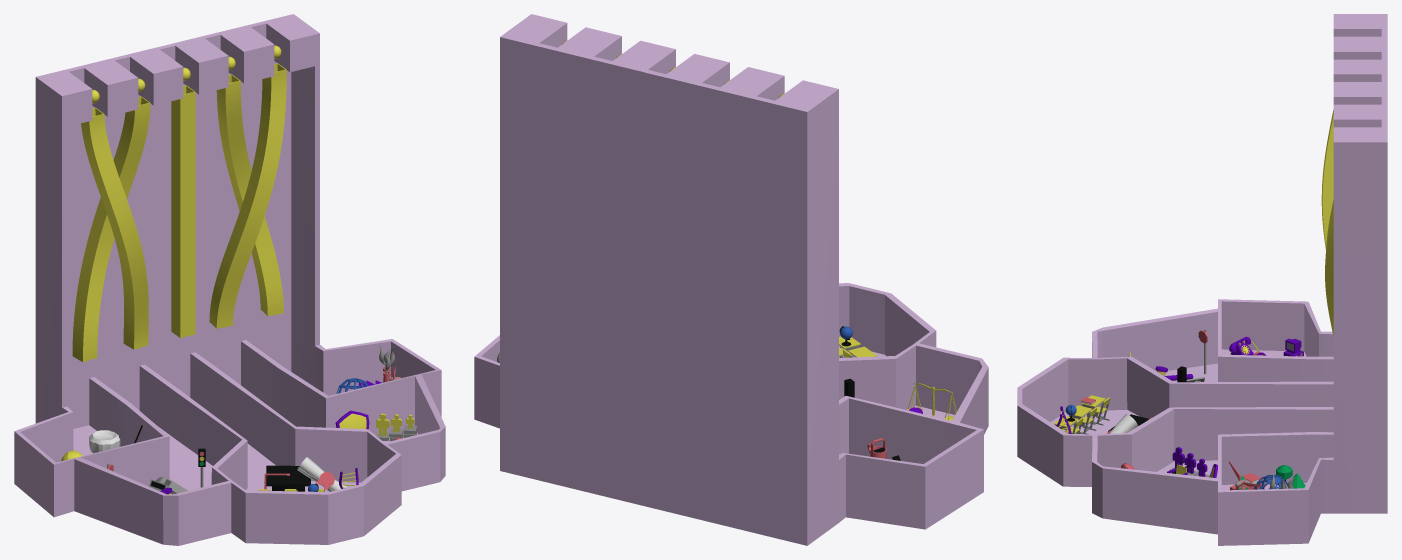
The model's file is 020-politics.glb.
3 renders of one model, left to right at view 1: azimuth 30°, elevation 25°; view 2: azimuth 150°, elevation 25°; view 3: azimuth 270°, elevation 25°, orthographic. The views are drawn at different scales.
Visible parts, largest first — view 1: GEO.Plinko.board.002; view 2: GEO.Plinko.board.002; view 3: GEO.Plinko.board.002.
Boxes of the visible parts, left/top/right/bottom form: GEO.Plinko.board.002: left=14, top=14, right=445, bottom=545; GEO.Plinko.board.002: left=474, top=14, right=988, bottom=545; GEO.Plinko.board.002: left=1017, top=14, right=1387, bottom=545.
Bounding box in the file's own units: 1.75 × 1.57 × 1.42.
